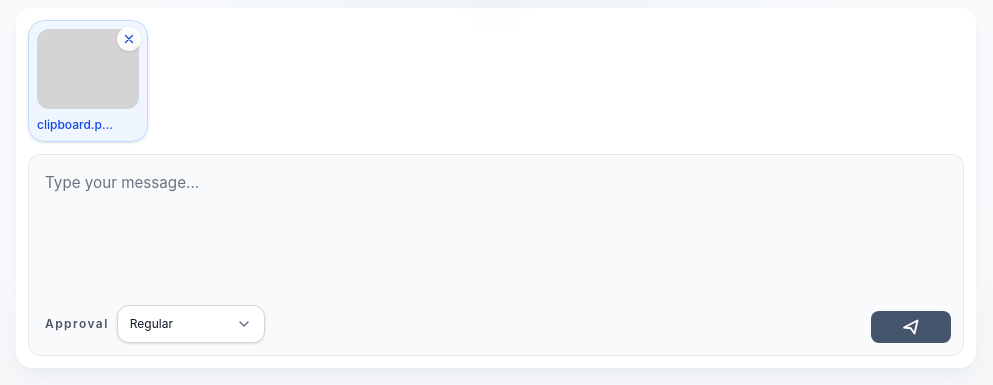
Test case: MessageInput › removes an attachment through its delete button
Expected: the text "clipboard.png" is shown, [37,117,116,132]
Click the button named "Remove attachment clipboard.png". click: (129, 39)
box: [117,27,141,51]
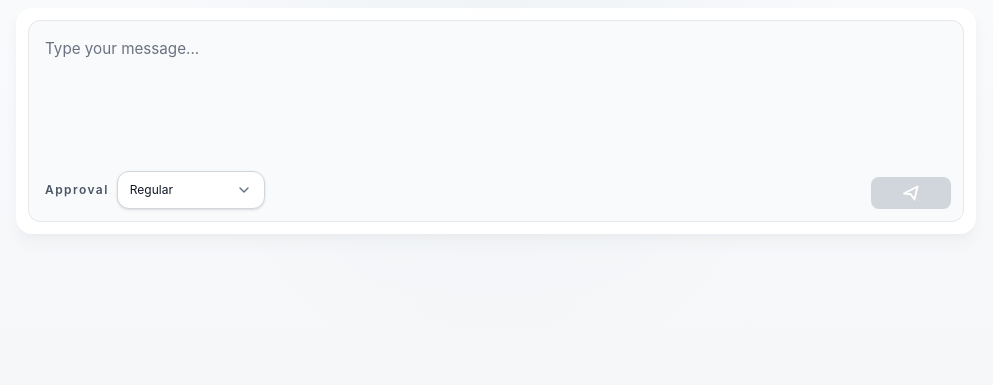
Expected: the text "clipboard.png" is gone
